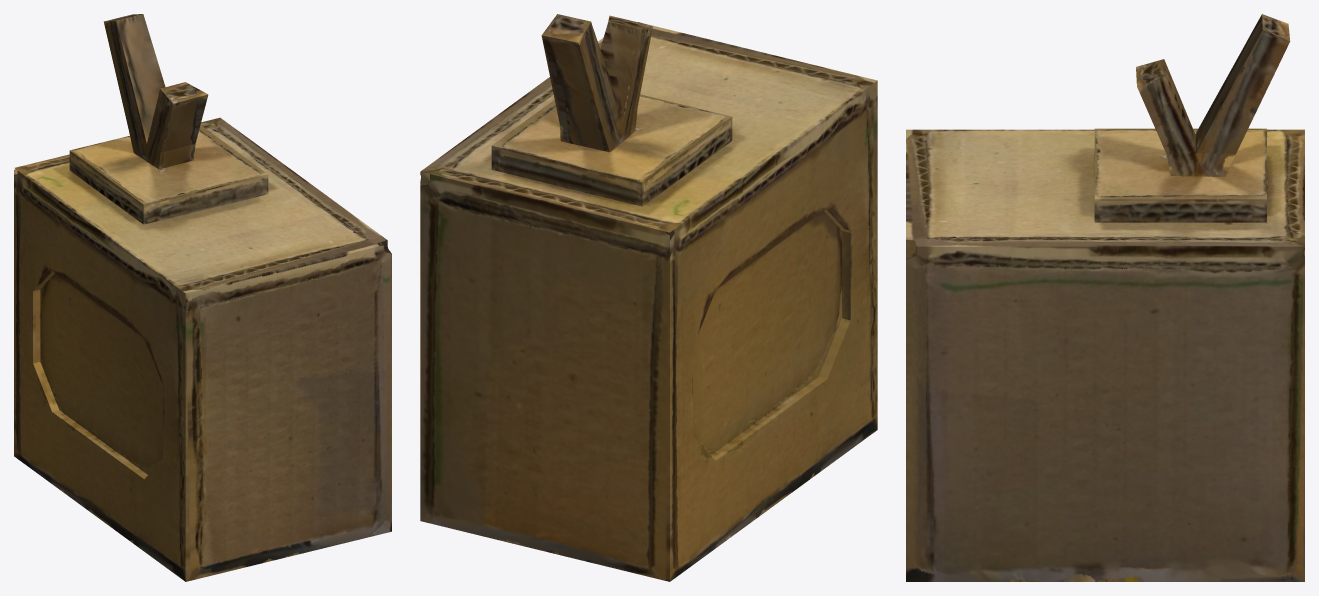
Rendered from TVtest.fbx.
3 views of the same model, side by side, from view 1: azimuth 30°, elevation 25°; view 2: azimuth 150°, elevation 25°; view 3: azimuth 270°, elevation 25° (orthographic). The views are drawn at different scales.
Visible parts, largest first — view 1: Cube.001; view 2: Cube.001; view 3: Cube.001.
Part boxes in pixels (x1,y1,x2,y2): Cube.001: (14, 14, 391, 581); Cube.001: (420, 14, 877, 581); Cube.001: (906, 14, 1304, 581).
Bounding box in the file's own units: 23.44 × 46.6 × 33.79.
